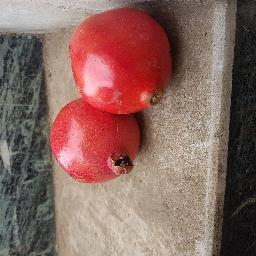Good_pomegranate: (68, 7, 180, 114), (48, 101, 138, 184)
